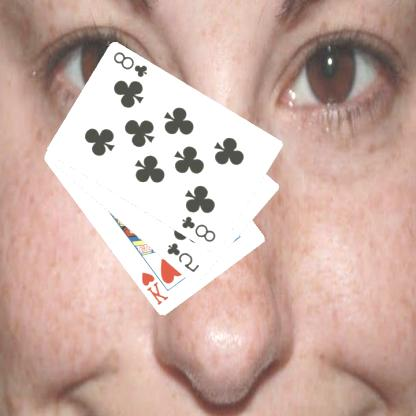5C: (166, 240, 203, 274)
8C: (180, 214, 219, 244), (112, 49, 151, 79)
KH: (140, 269, 172, 307)
